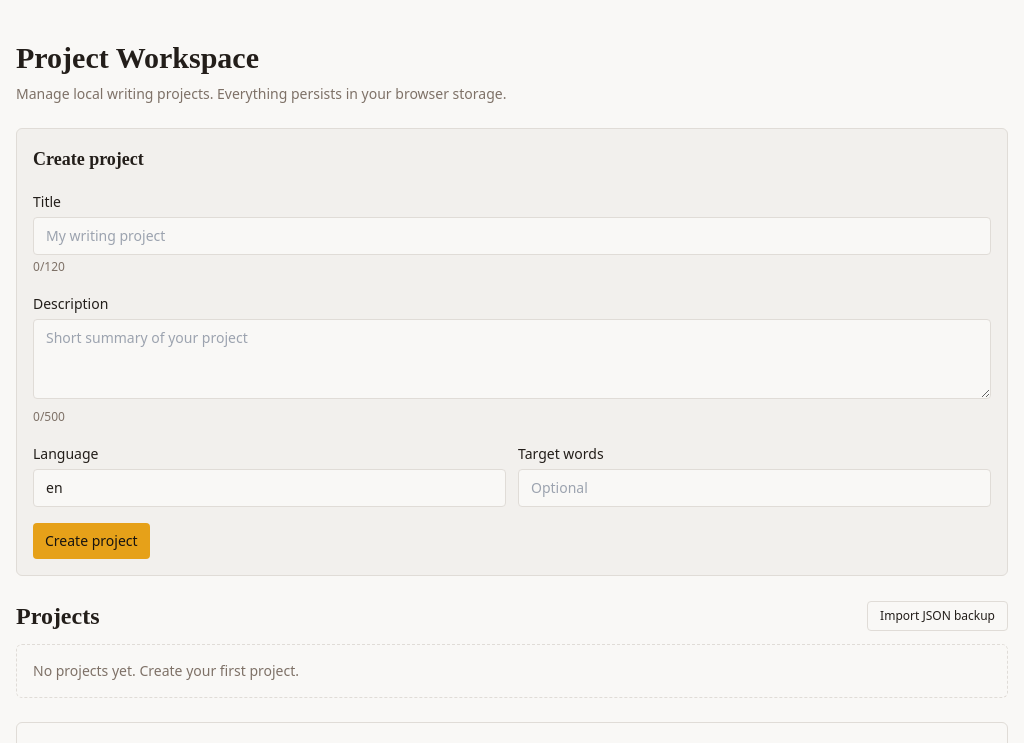
WorkspacePage › rejects invalid target word count input
Check: the text "No projects yet. Create your first project." is shown, box 16,644 -> 1008,698
Type "Project strict number" into the field labelled "Title" at [512, 236], box 33,217 -> 991,255
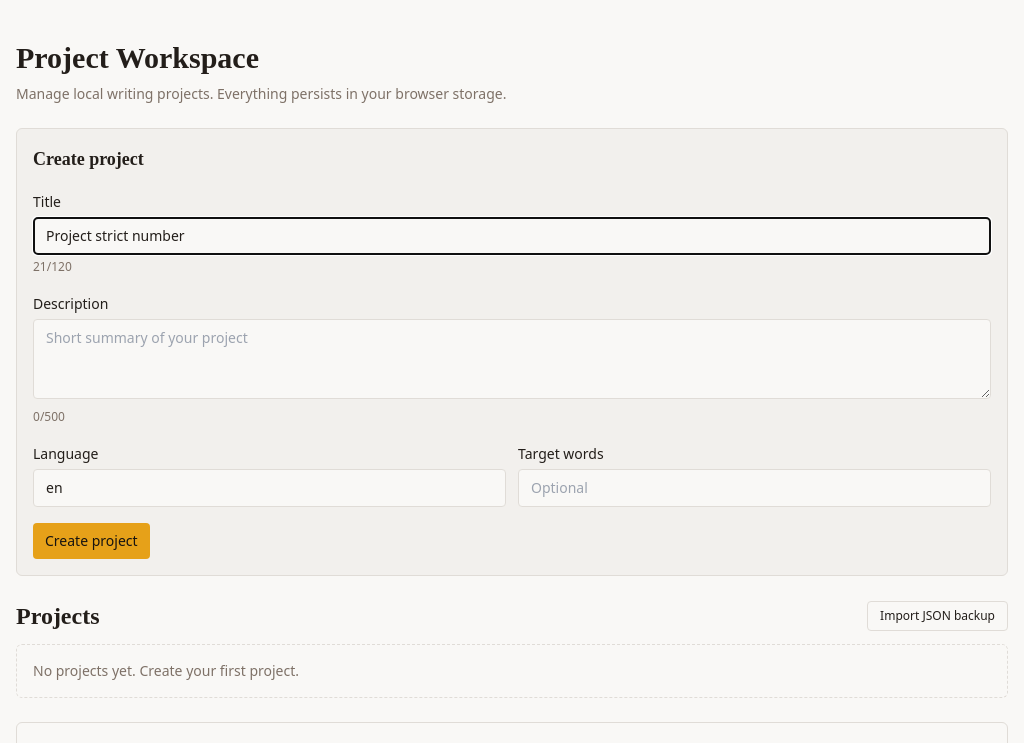
Type "12abc" into the field labelled "Target words" at [754, 488], box 518,469 -> 991,507
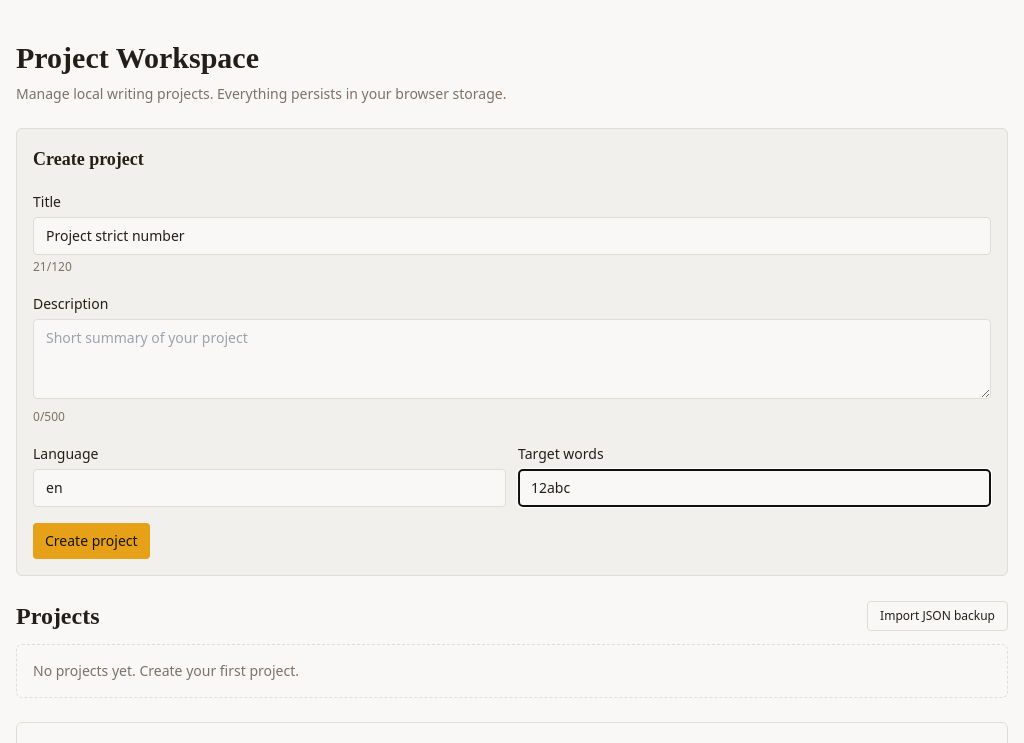
Click the button "Create project" at [91, 541], box 33,523 -> 150,559
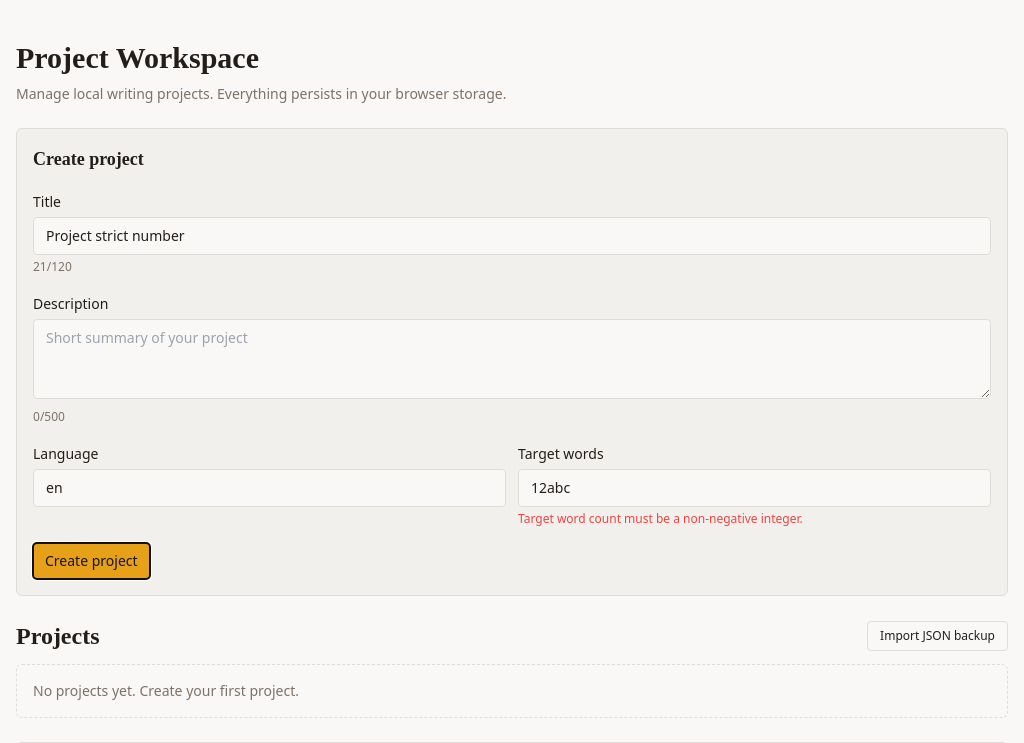
Check: the text "Target word count must be a non-negative integer." is shown, box 518,510 -> 803,527
